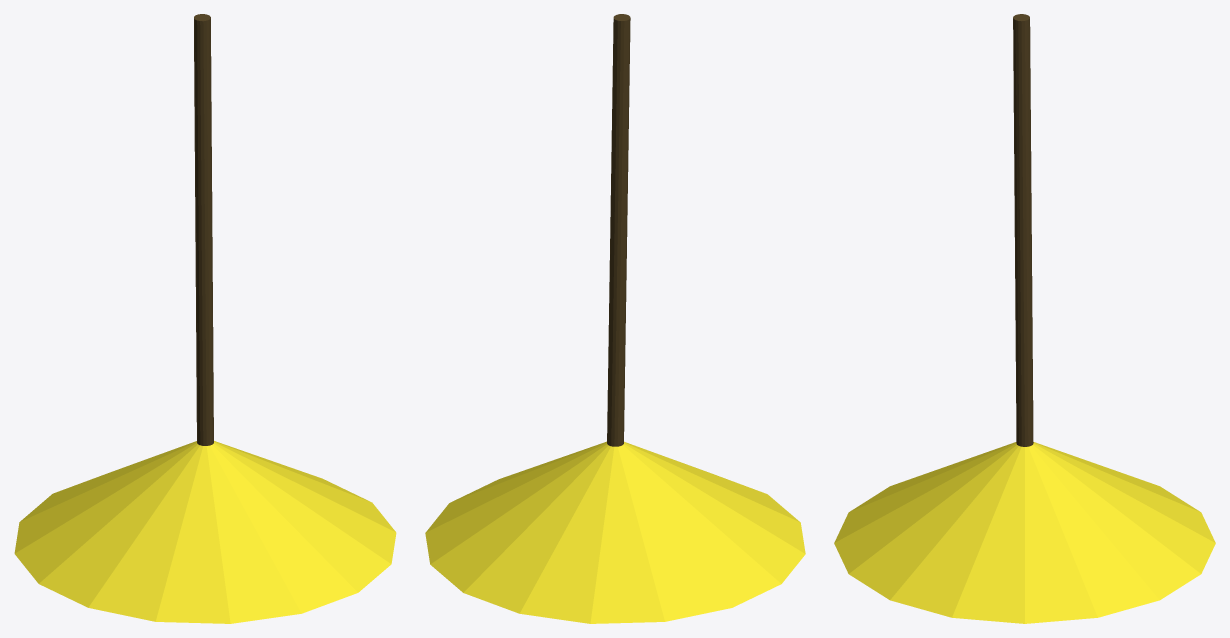
File: roof lamp.fbx
3 renders of one model, left to right at view 1: azimuth 30°, elevation 25°; view 2: azimuth 150°, elevation 25°; view 3: azimuth 270°, elevation 25°, orthographic.
Visible parts, largest first — view 1: Cylinder; view 2: Cylinder; view 3: Cylinder.
Part boxes in pixels (<box>): Cylinder: <box>14,14,396,623</box>; Cylinder: <box>425,14,805,623</box>; Cylinder: <box>834,14,1215,623</box>.
Size of the model in its own units: 52.05 by 78.73 by 52.05.
